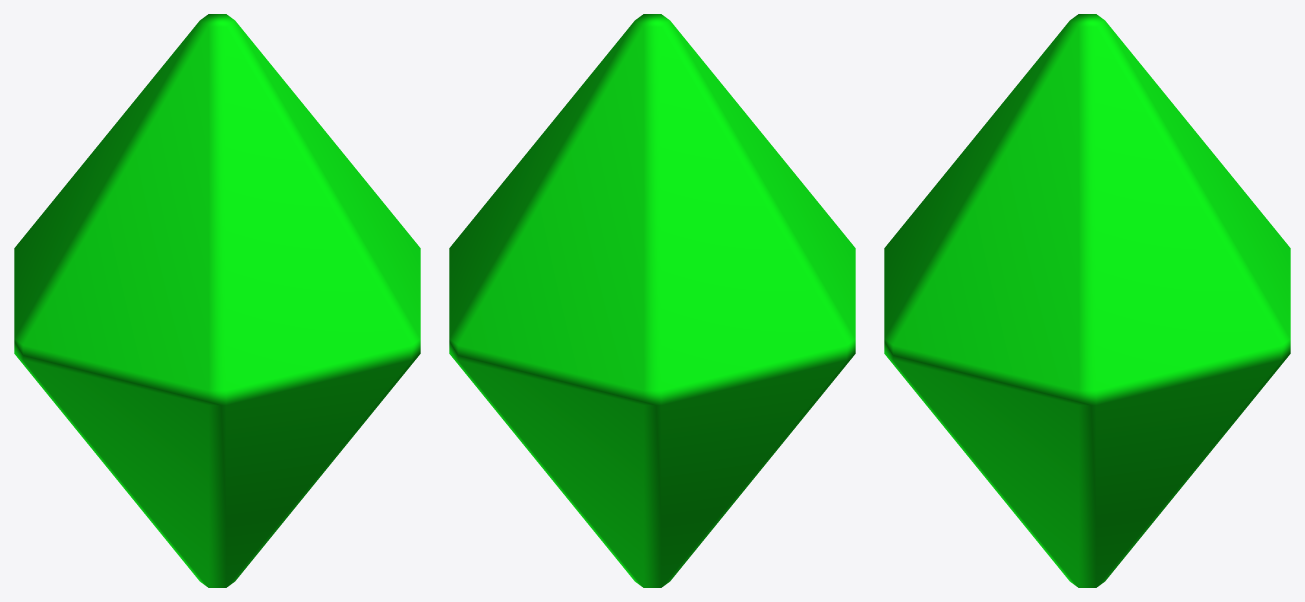
The model's file is Treasure_Gem4.fbx.
3 views of the same model, side by side, from view 1: azimuth 30°, elevation 25°; view 2: azimuth 150°, elevation 25°; view 3: azimuth 270°, elevation 25° (orthographic).
Visible parts, largest first — view 1: Gem4; view 2: Gem4; view 3: Gem4.
Boxes of the visible parts, x1,y1,x2,y2 form: Gem4: [14, 14, 420, 587]; Gem4: [449, 14, 855, 587]; Gem4: [884, 14, 1290, 587].
Bounding box in the file's own units: 93.76 × 126 × 83.
